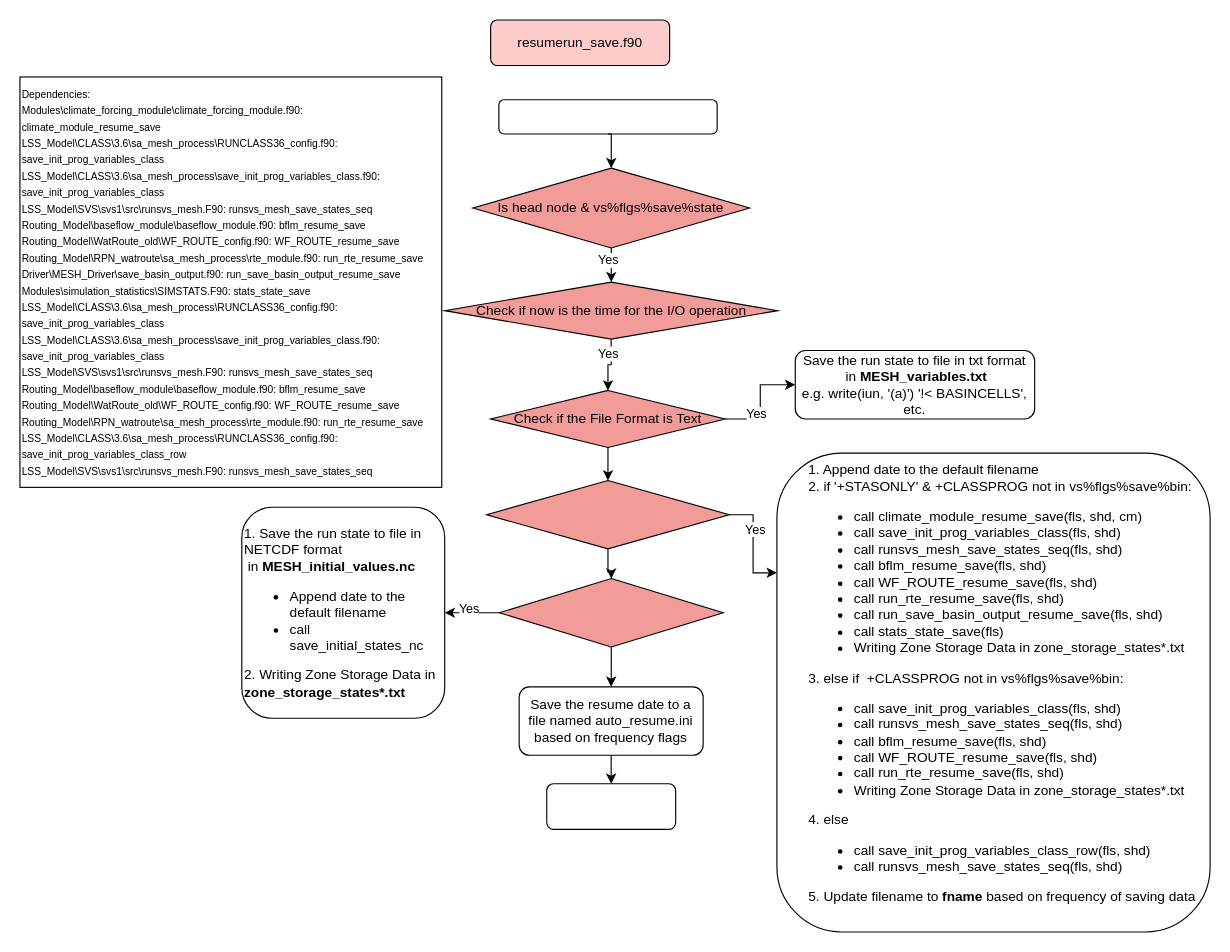
The diagram is 1230 pixels wide and 952 high, and some of its shapes have lost their labels. Here are the shapes that lost their labels. From the top down, the box of each, then its label:
(498, 99, 717, 134): resumerun_save(fls, shd, cm)
(486, 479, 729, 549): Check if the File Format is Sequential binary
(498, 577, 723, 647): Check if the File Format is NETCDF
(546, 783, 676, 829): end subroutine
